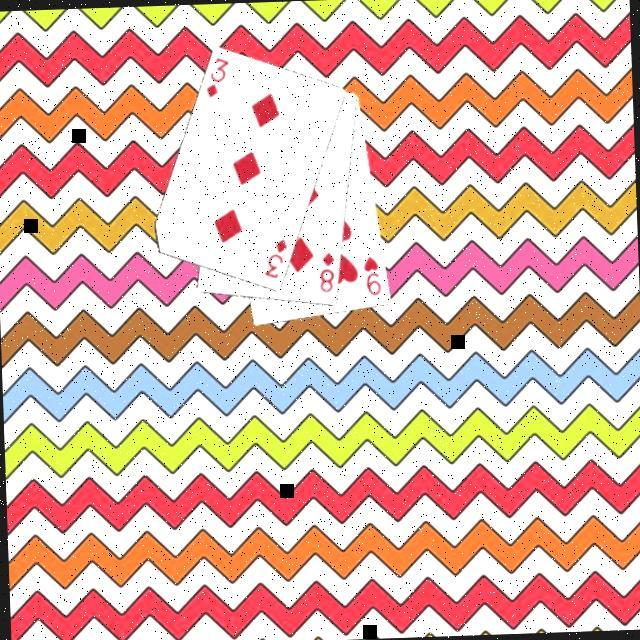3D: (262, 237, 294, 284), (203, 56, 235, 103)
8D: (317, 250, 341, 297)
9H: (362, 254, 386, 301)
